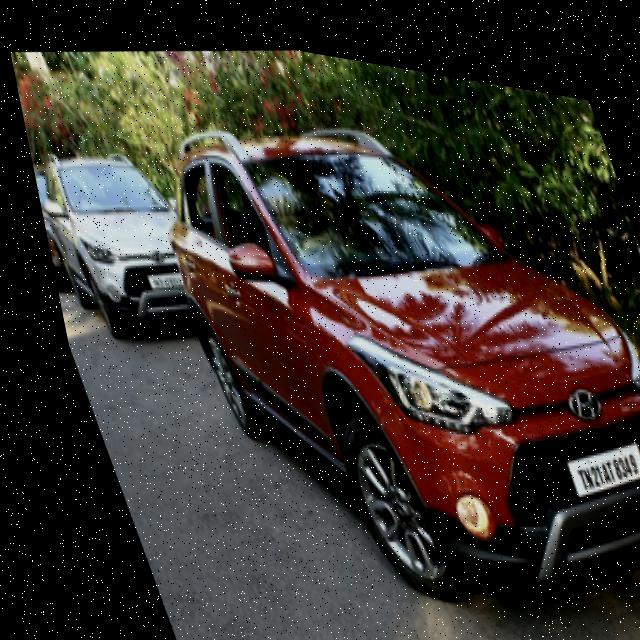license_plate: (537, 416, 640, 492), (130, 259, 180, 290)
